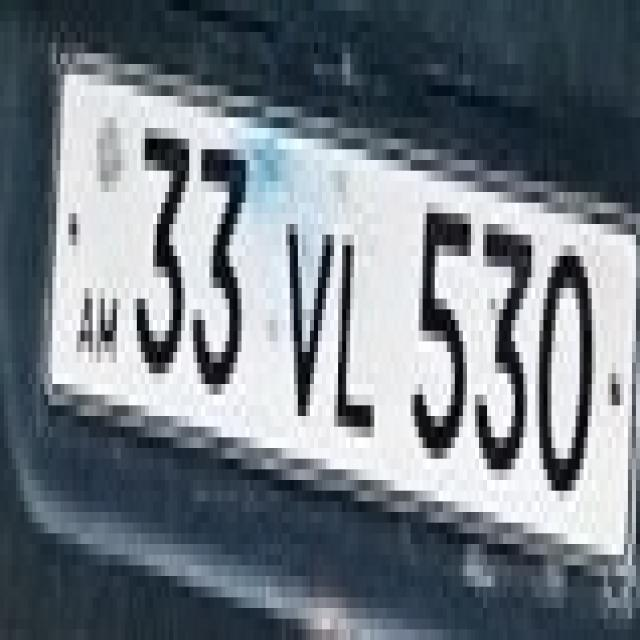0: (527, 224, 596, 491)
3: (116, 106, 190, 374), (177, 117, 250, 384), (466, 202, 532, 470)
5: (402, 181, 467, 448)
L: (322, 202, 382, 426)
V: (266, 192, 334, 416)
